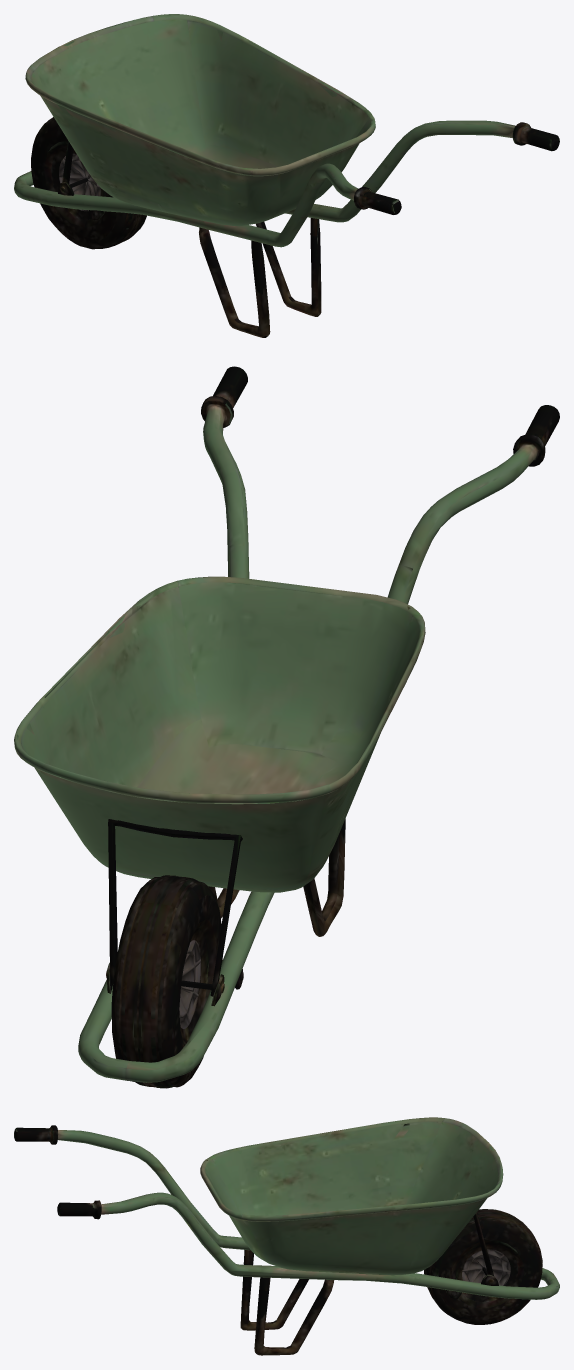
File: wheelbarrow.glb
3 views of the same model, one above another, from view 1: azimuth 30°, elevation 25°; view 2: azimuth 150°, elevation 25°; view 3: azimuth 270°, elevation 25° (orthographic). The views are drawn at different scales.
Visible parts, largest first — view 1: container_Material.001_0; view 2: container_Material.001_0; view 3: container_Material.001_0.
Part boxes in pixels (left/top/right/bottom): container_Material.001_0: left=14, top=14, right=559, bottom=337; container_Material.001_0: left=14, top=366, right=559, bottom=1088; container_Material.001_0: left=14, top=1117, right=559, bottom=1355.
Bounding box in the file's own units: 1.73 × 1.32 × 3.24.
Materials: 1 (1 with a texture image).
